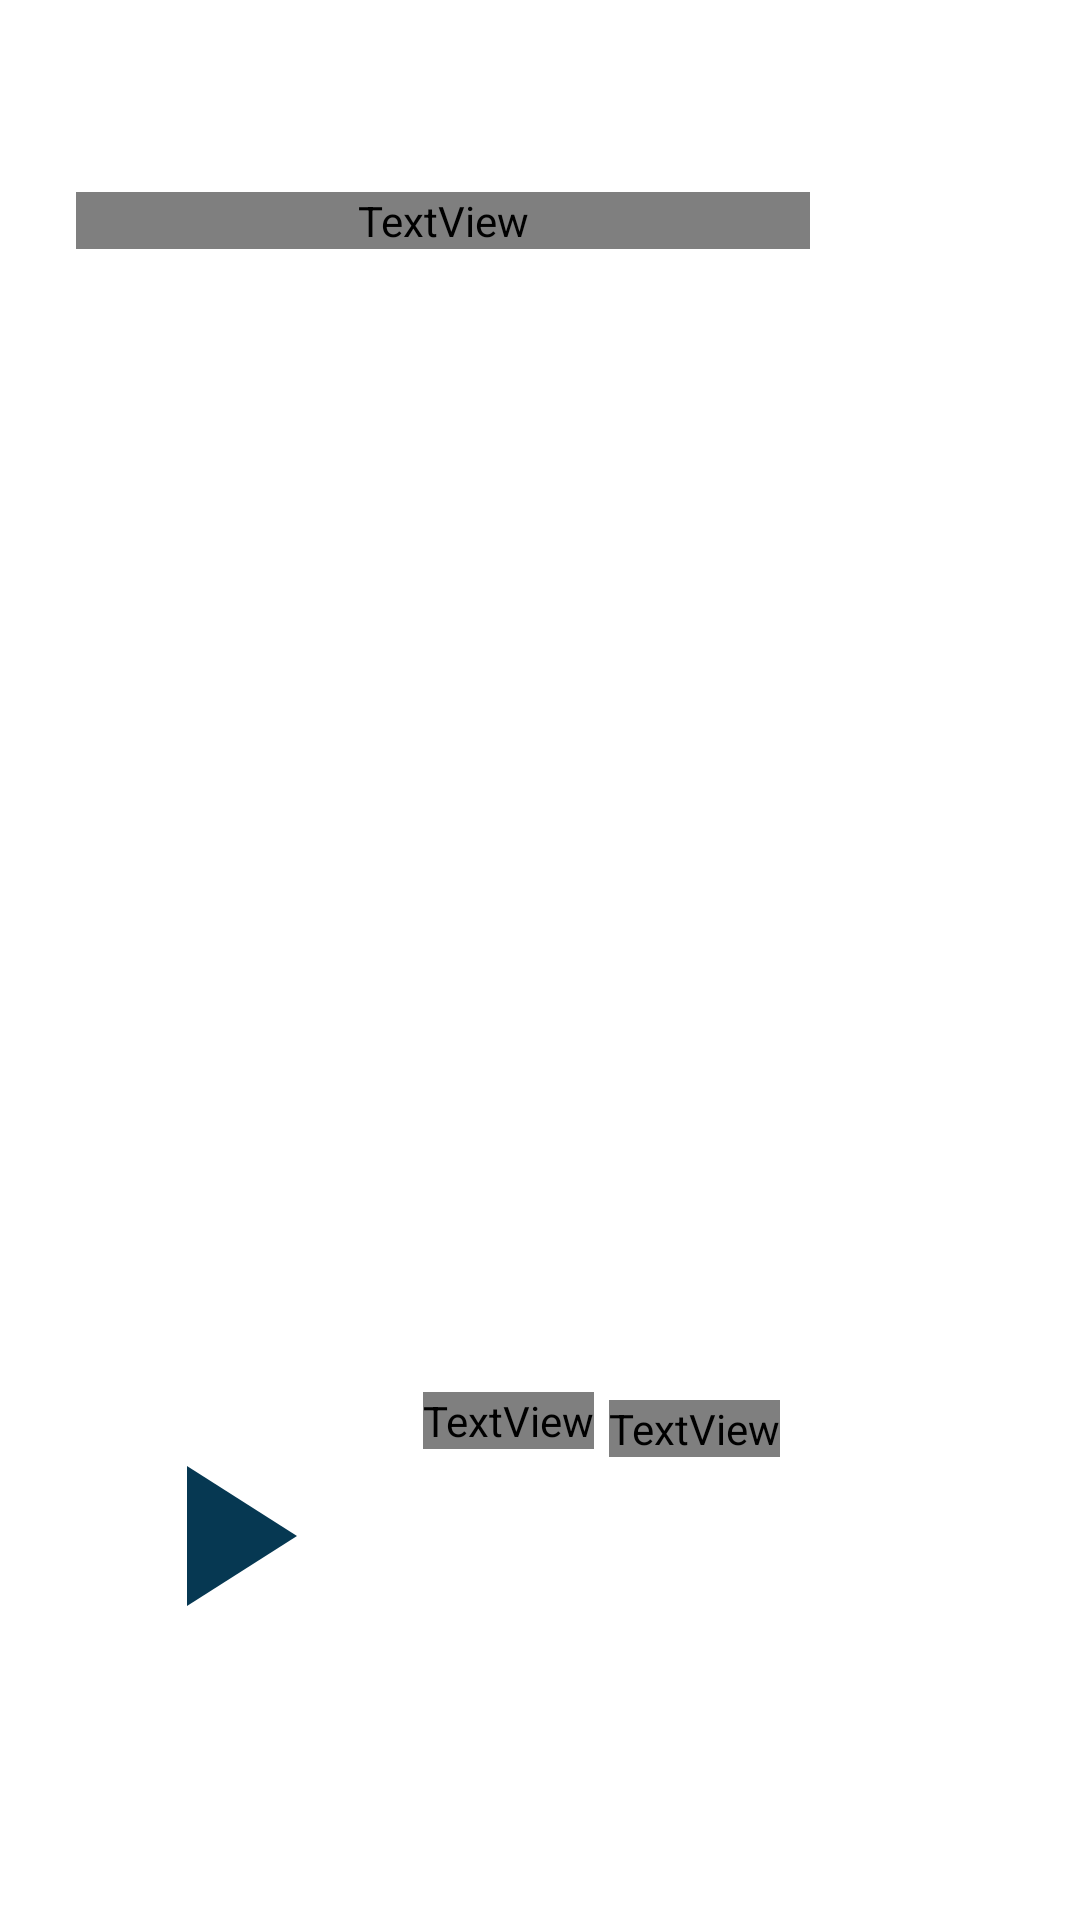

Icon bounding boxes for this 1080px x 1920px phone screenshot, format (x1, y1, x2, y2):
play: (187, 1466, 297, 1606)
